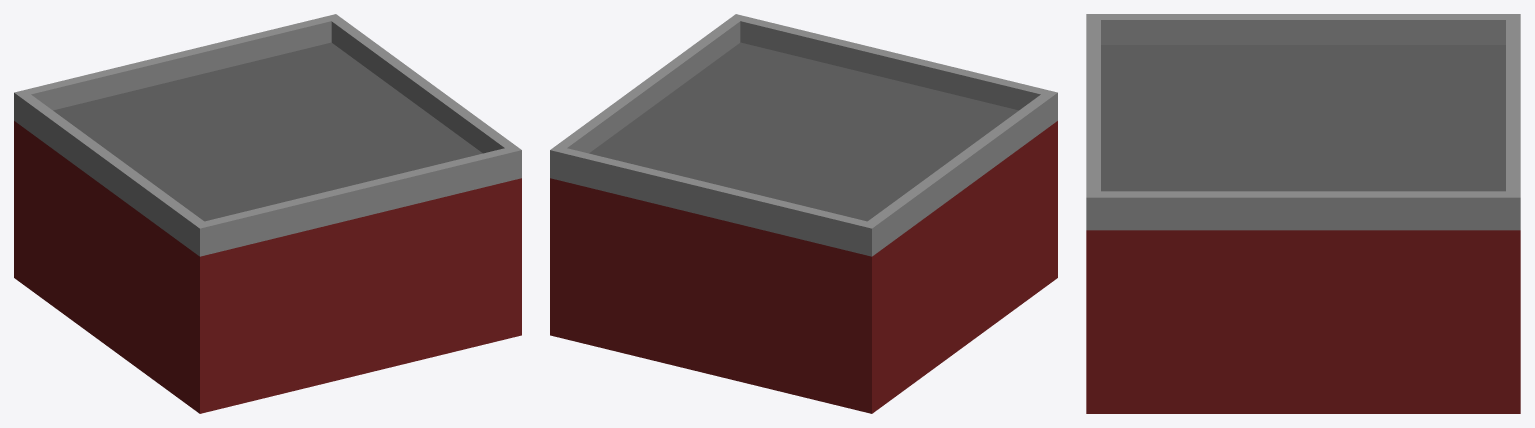
Rendered from Building_15_15_70.FBX.
3 renders of one model, left to right at view 1: azimuth 30°, elevation 25°; view 2: azimuth 150°, elevation 25°; view 3: azimuth 270°, elevation 25°, orthographic. The views are drawn at different scales.
Parts seen in each view (by area): view 1: BakedBuilding_2014741032823804; view 2: BakedBuilding_2014741032823804; view 3: BakedBuilding_2014741032823804.
Part boxes in pixels (x1,y1,x2,y2): BakedBuilding_2014741032823804: (14,14,521,413); BakedBuilding_2014741032823804: (550,14,1057,413); BakedBuilding_2014741032823804: (1086,14,1520,413).
Size of the model in its own units: 1500 by 825 by 1500.
